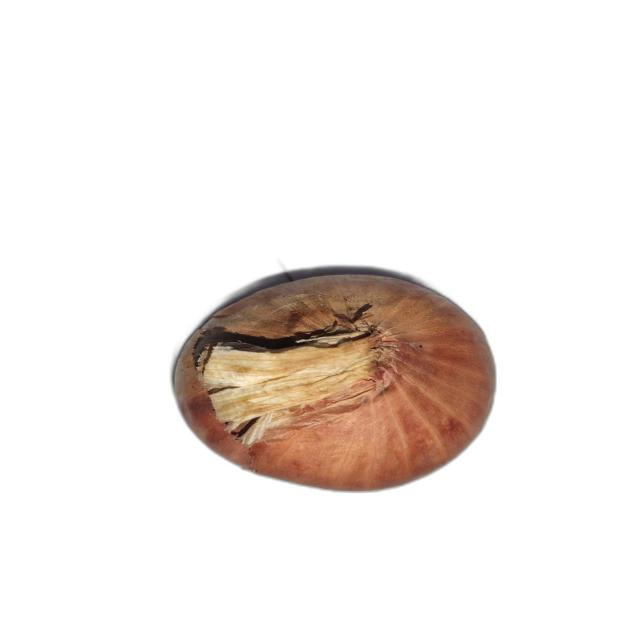onion: (172, 272, 499, 492)
